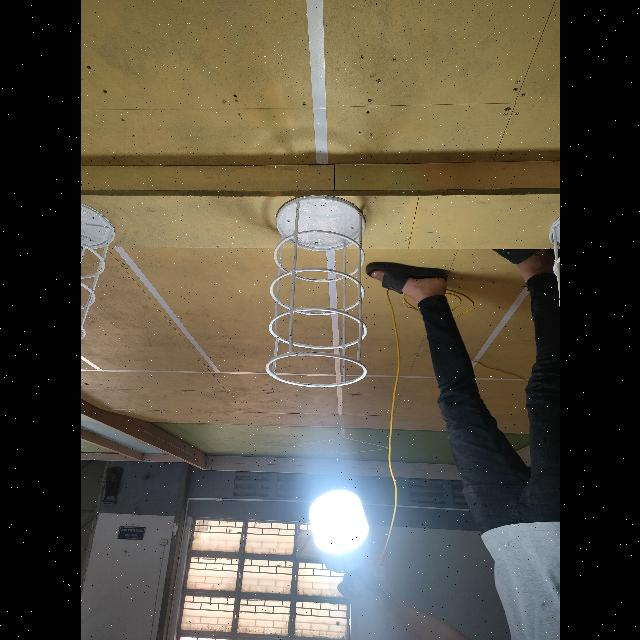S: (265, 195, 367, 388), (80, 200, 114, 348)
